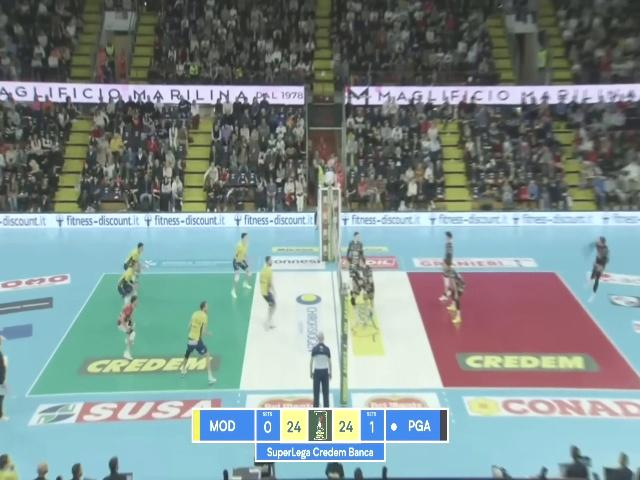volleyball court: (29, 269, 638, 389)
